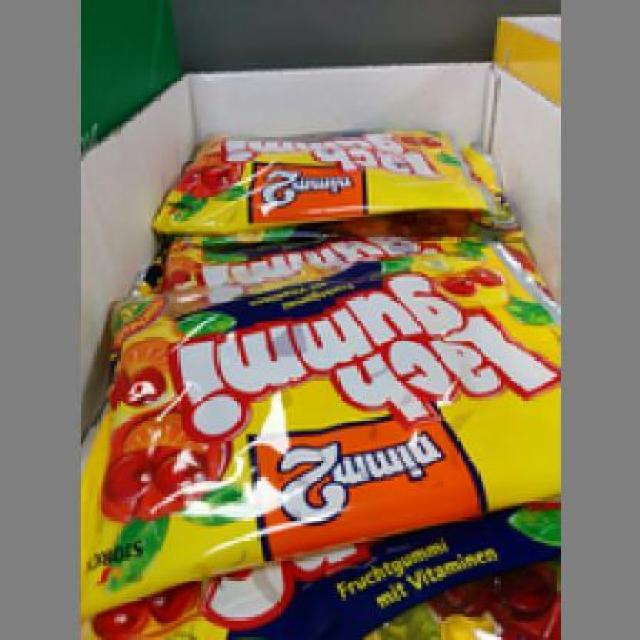Candy: (74, 234, 557, 606), (148, 126, 492, 232)
